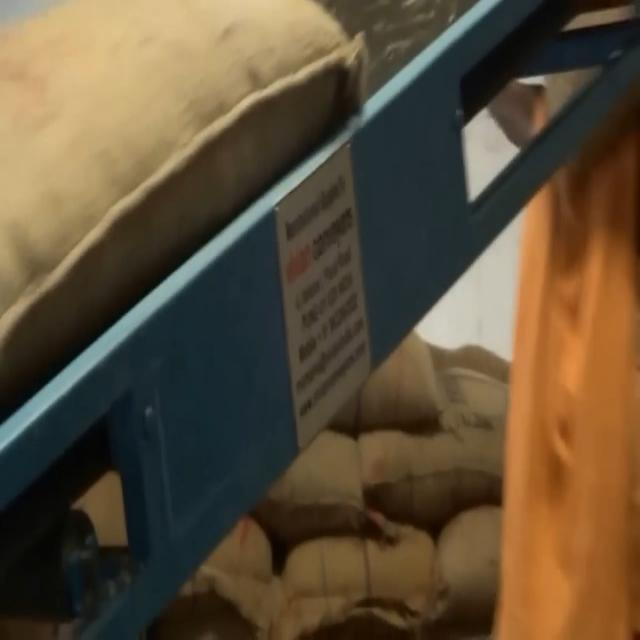gunny_bag: (0, 0, 368, 408)
